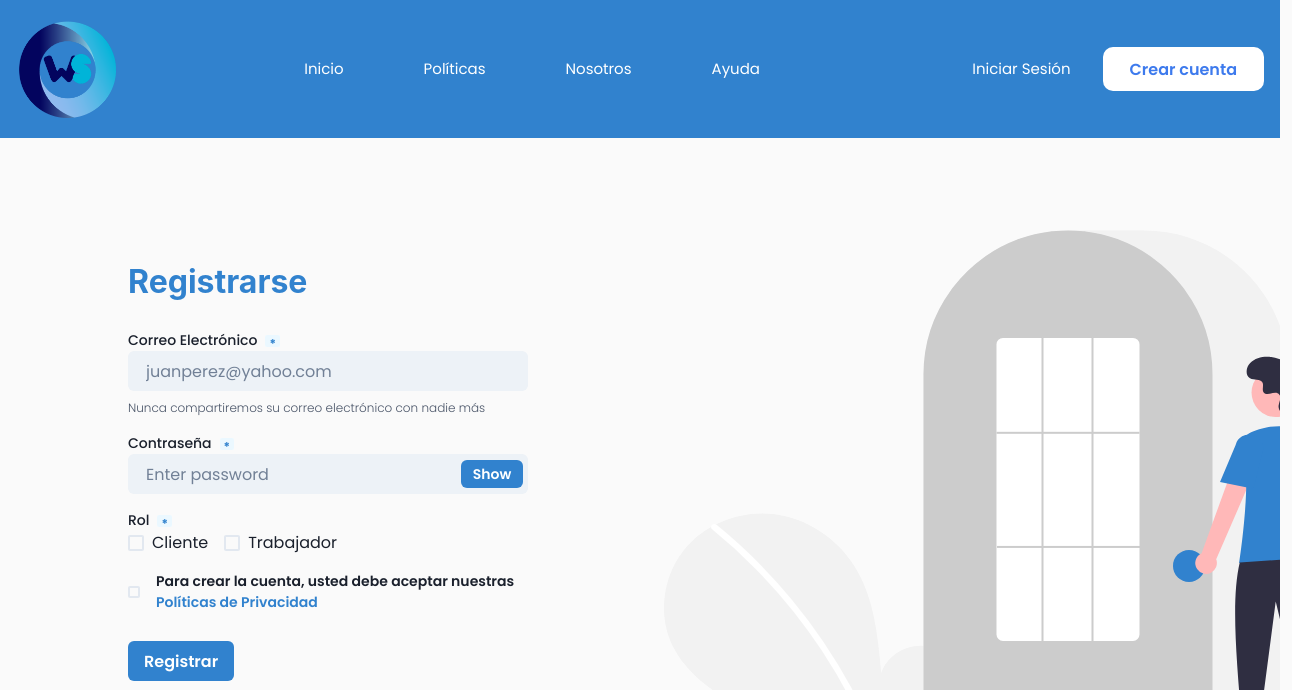
Pruebas Unitarias › Pruebas de registro › Email incorrecto en register y campos vacíos
Type "myemail@domain" into the field named "email". click: (328, 371)
box: [128,351,528,391]
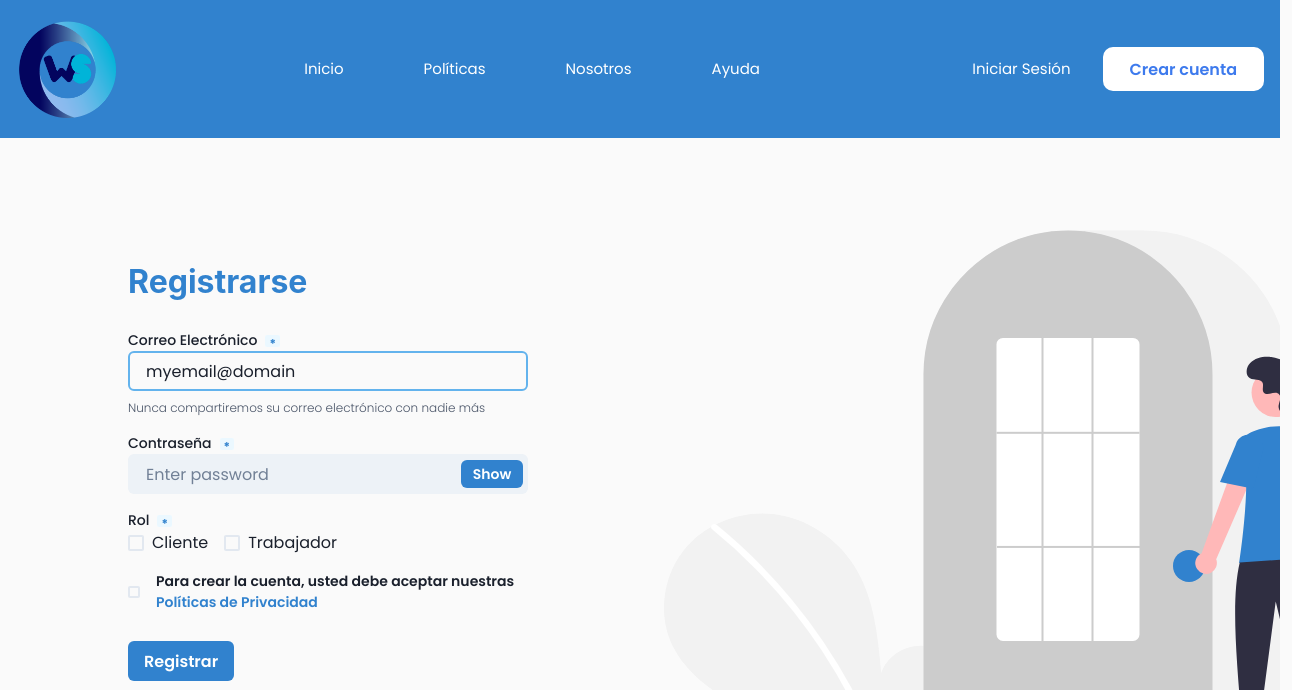
Click the submit button. click: click(181, 661)
box: [128,641,234,681]
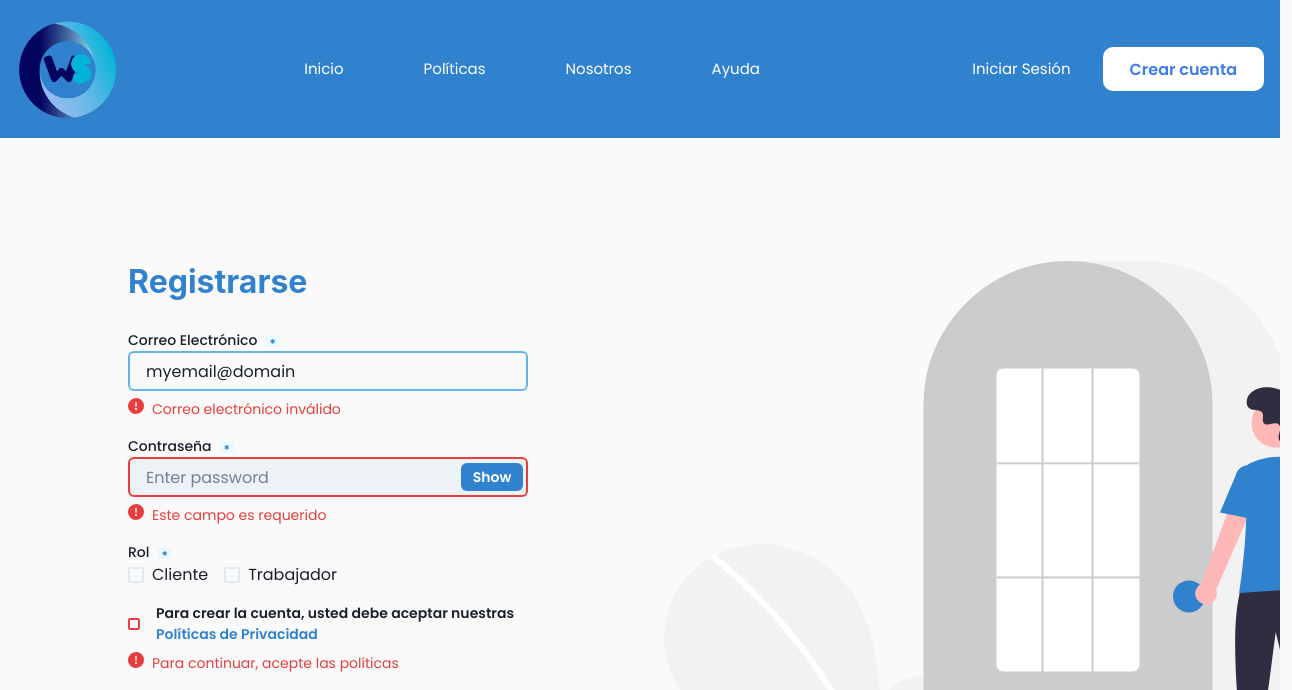
expect the text "Correo electrónico inválido" is shown: met, box [152,399,341,420]
expect the text "Este campo es requerido" is shown: met, box [152,505,326,526]
